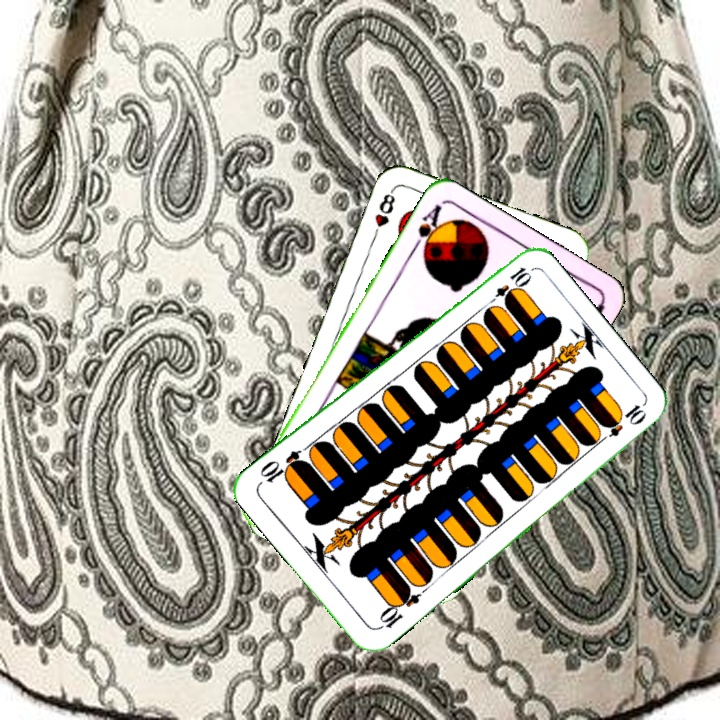E10: (482, 263, 534, 310), (374, 584, 423, 633)
H8: (368, 185, 398, 243)
SA: (407, 200, 447, 259)
